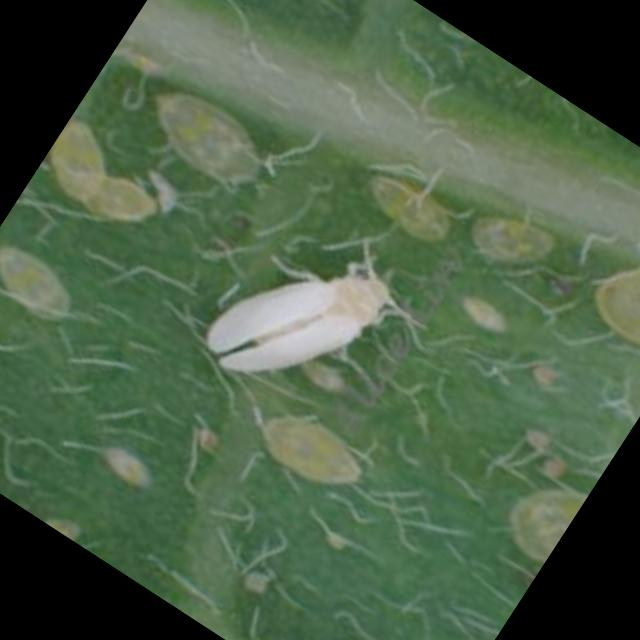Silverleaf whitefly: (174, 180, 450, 454)
